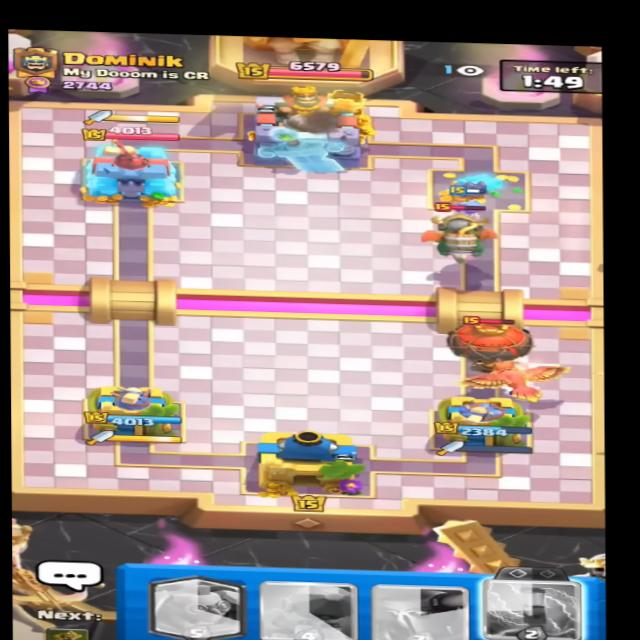balloon: (449, 311, 542, 377)
inferno-dragon: (407, 201, 507, 262)
